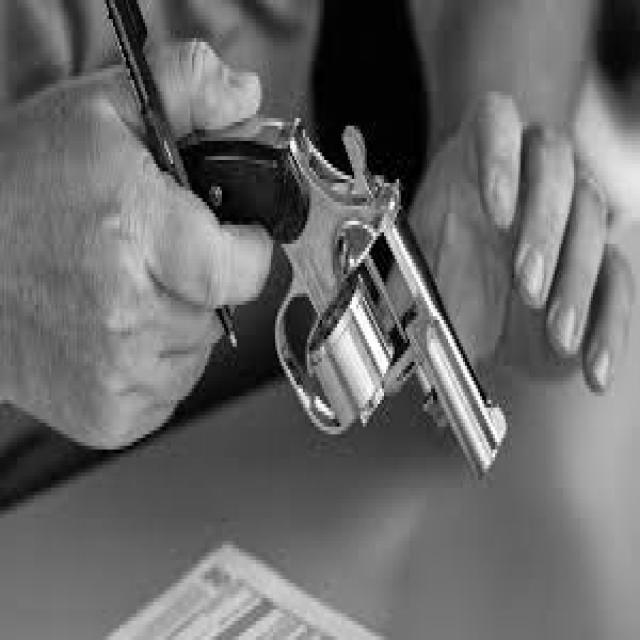weapons: (143, 61, 520, 504)
